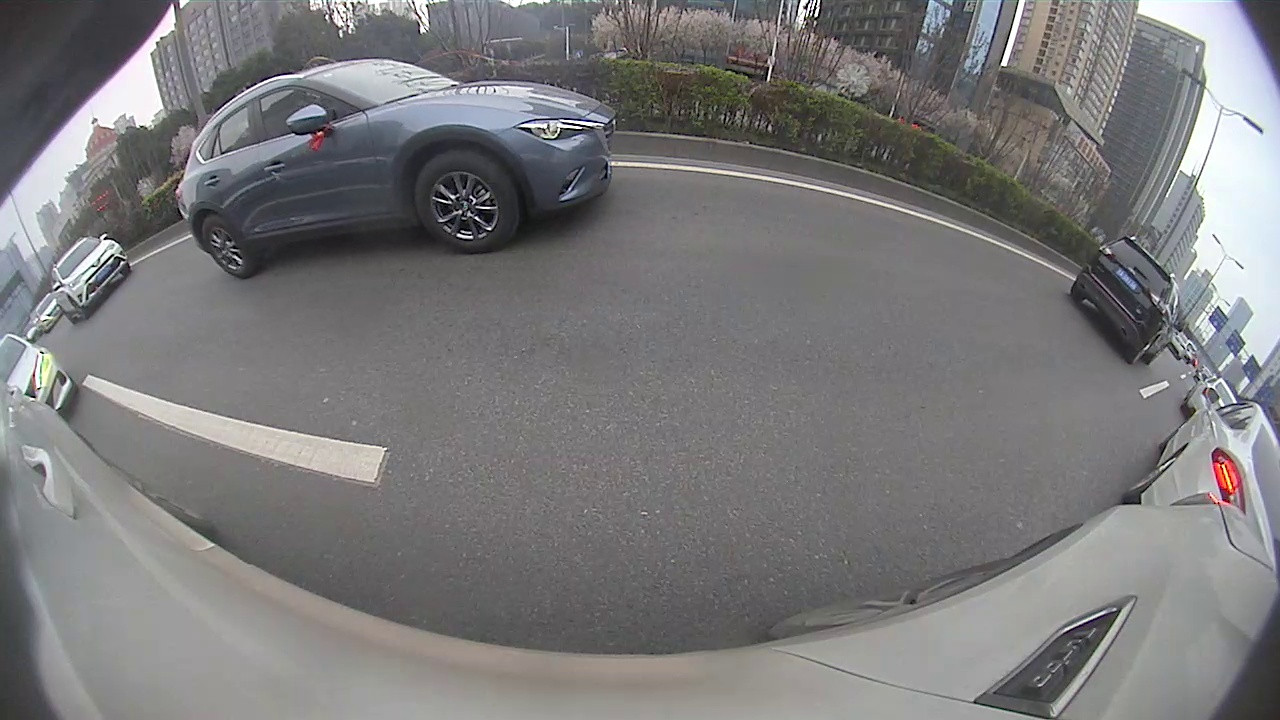car: (173, 56, 621, 280), (1119, 388, 1278, 575), (1068, 234, 1187, 368), (48, 232, 130, 326)
front: (416, 153, 518, 252)
rear: (199, 219, 253, 280)
